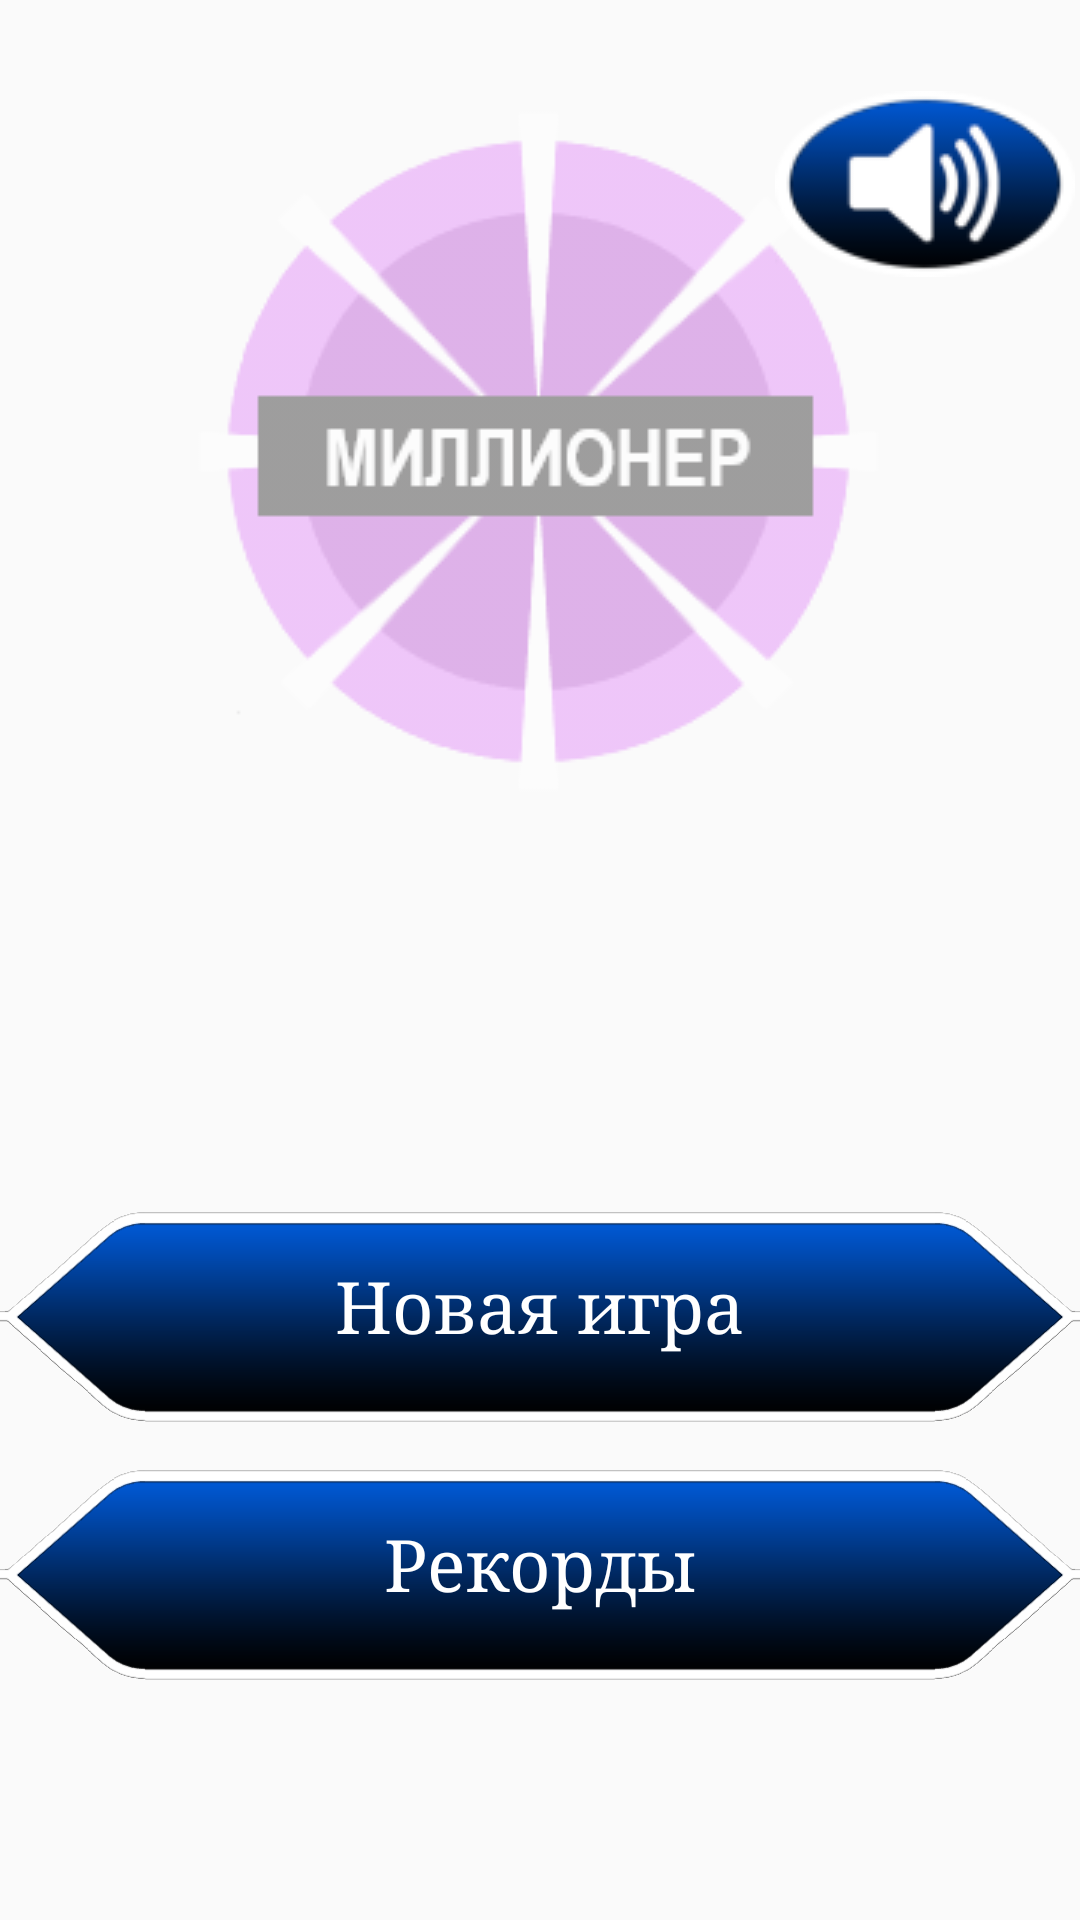

Icon bounding boxes for this 1080 × 1920 phone screenshot, format (x1, y1, x2, y2):
zvuk: (788, 99, 1062, 269)
